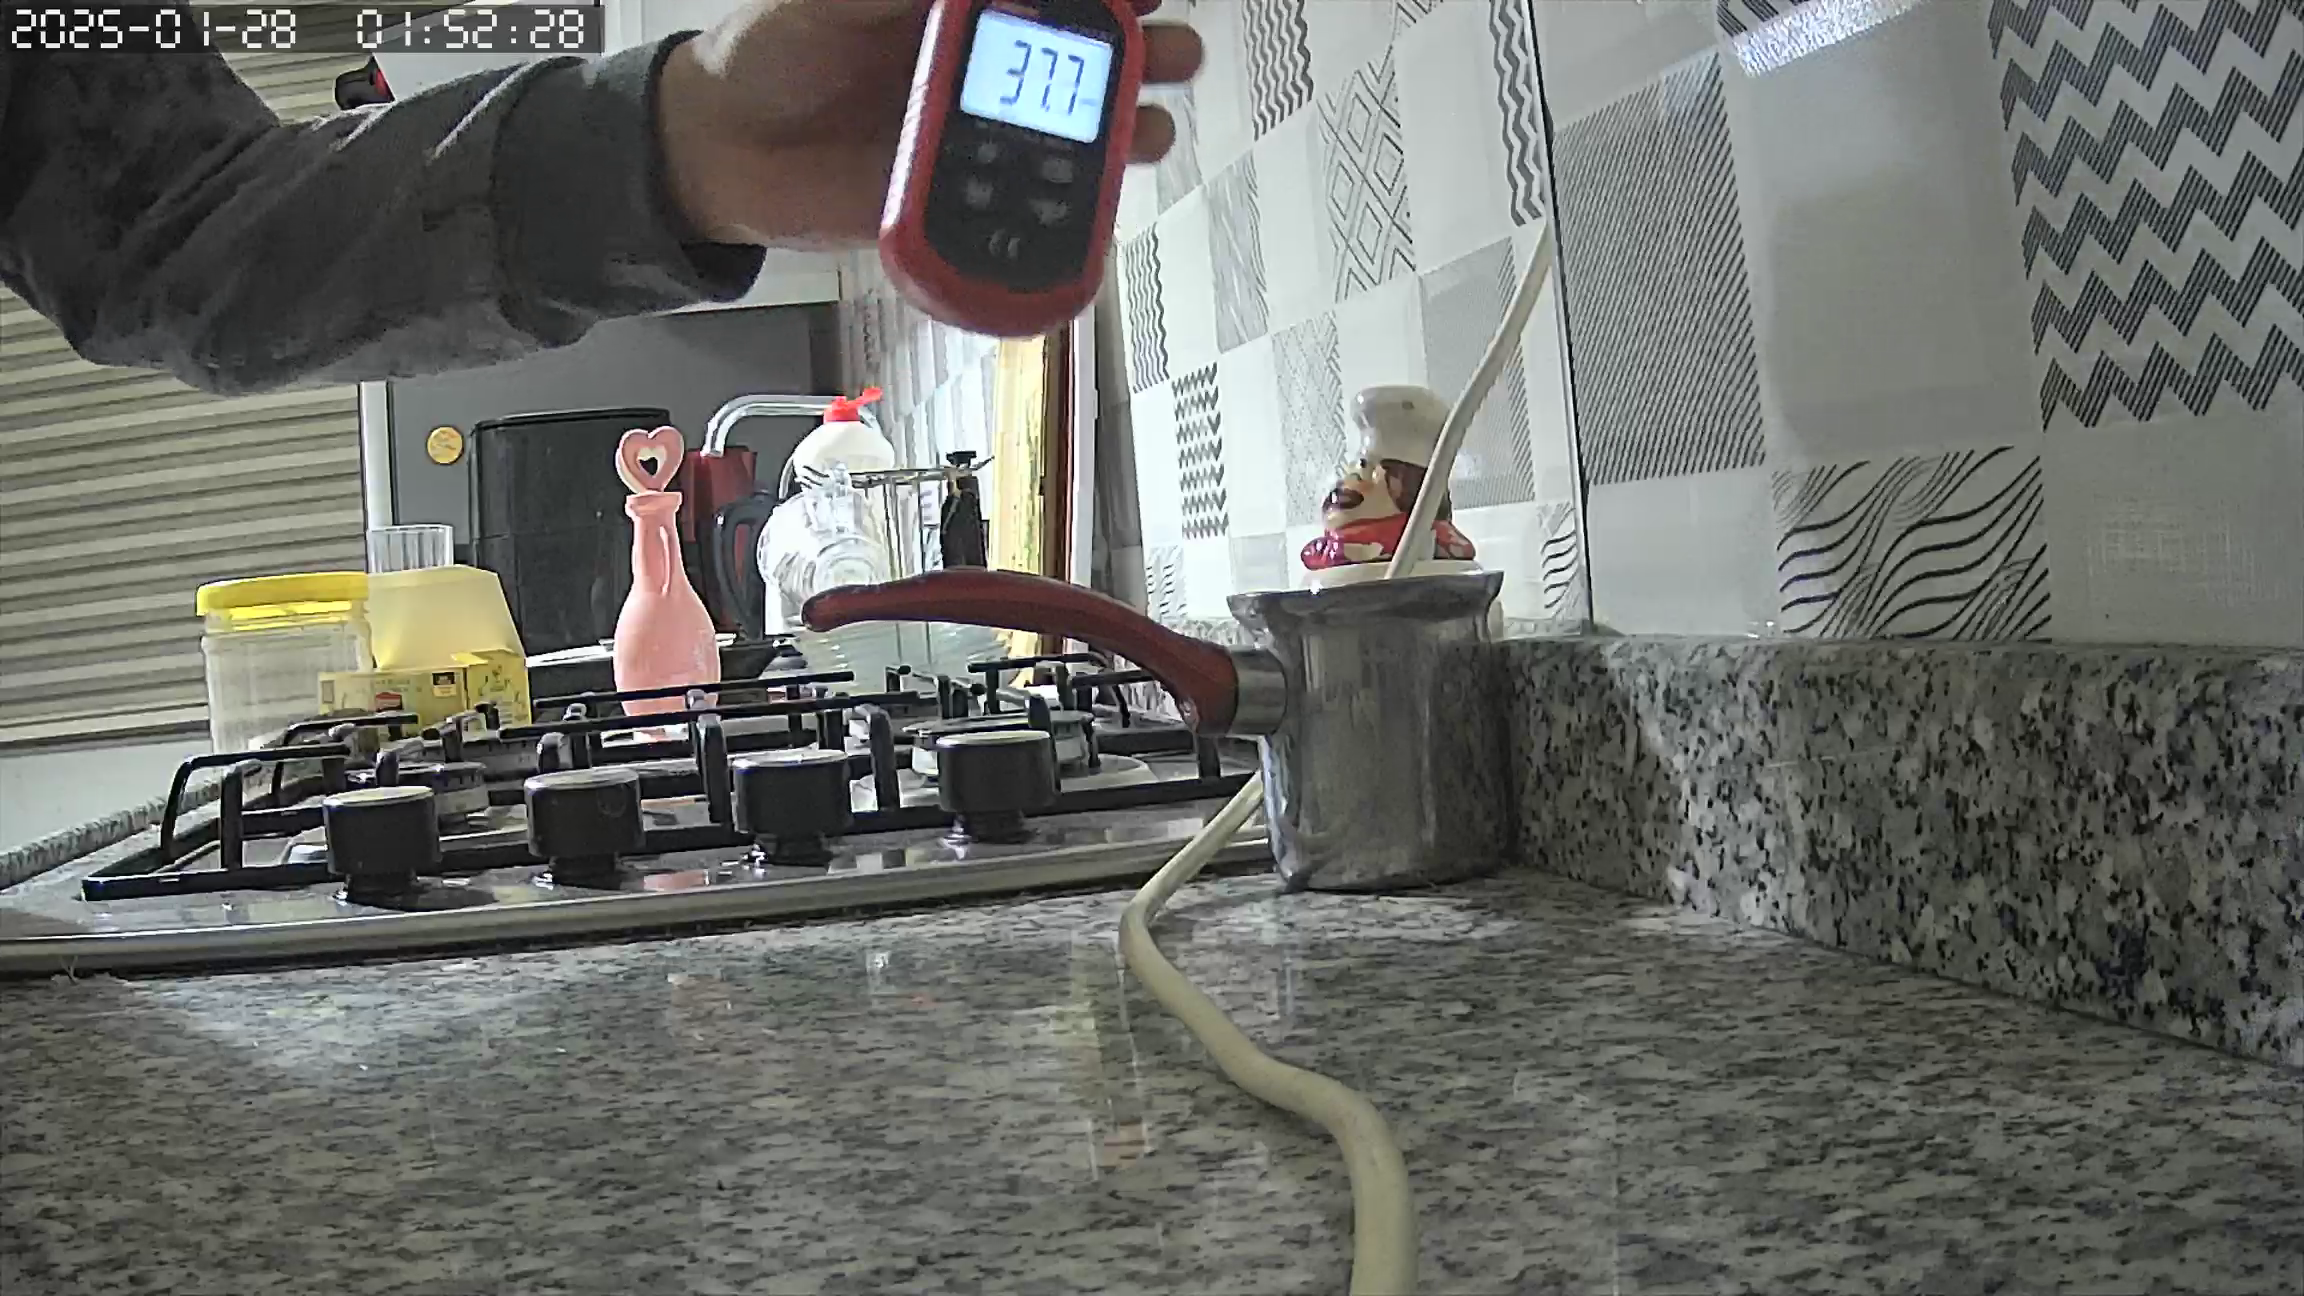screen: (957, 6, 1116, 146)
